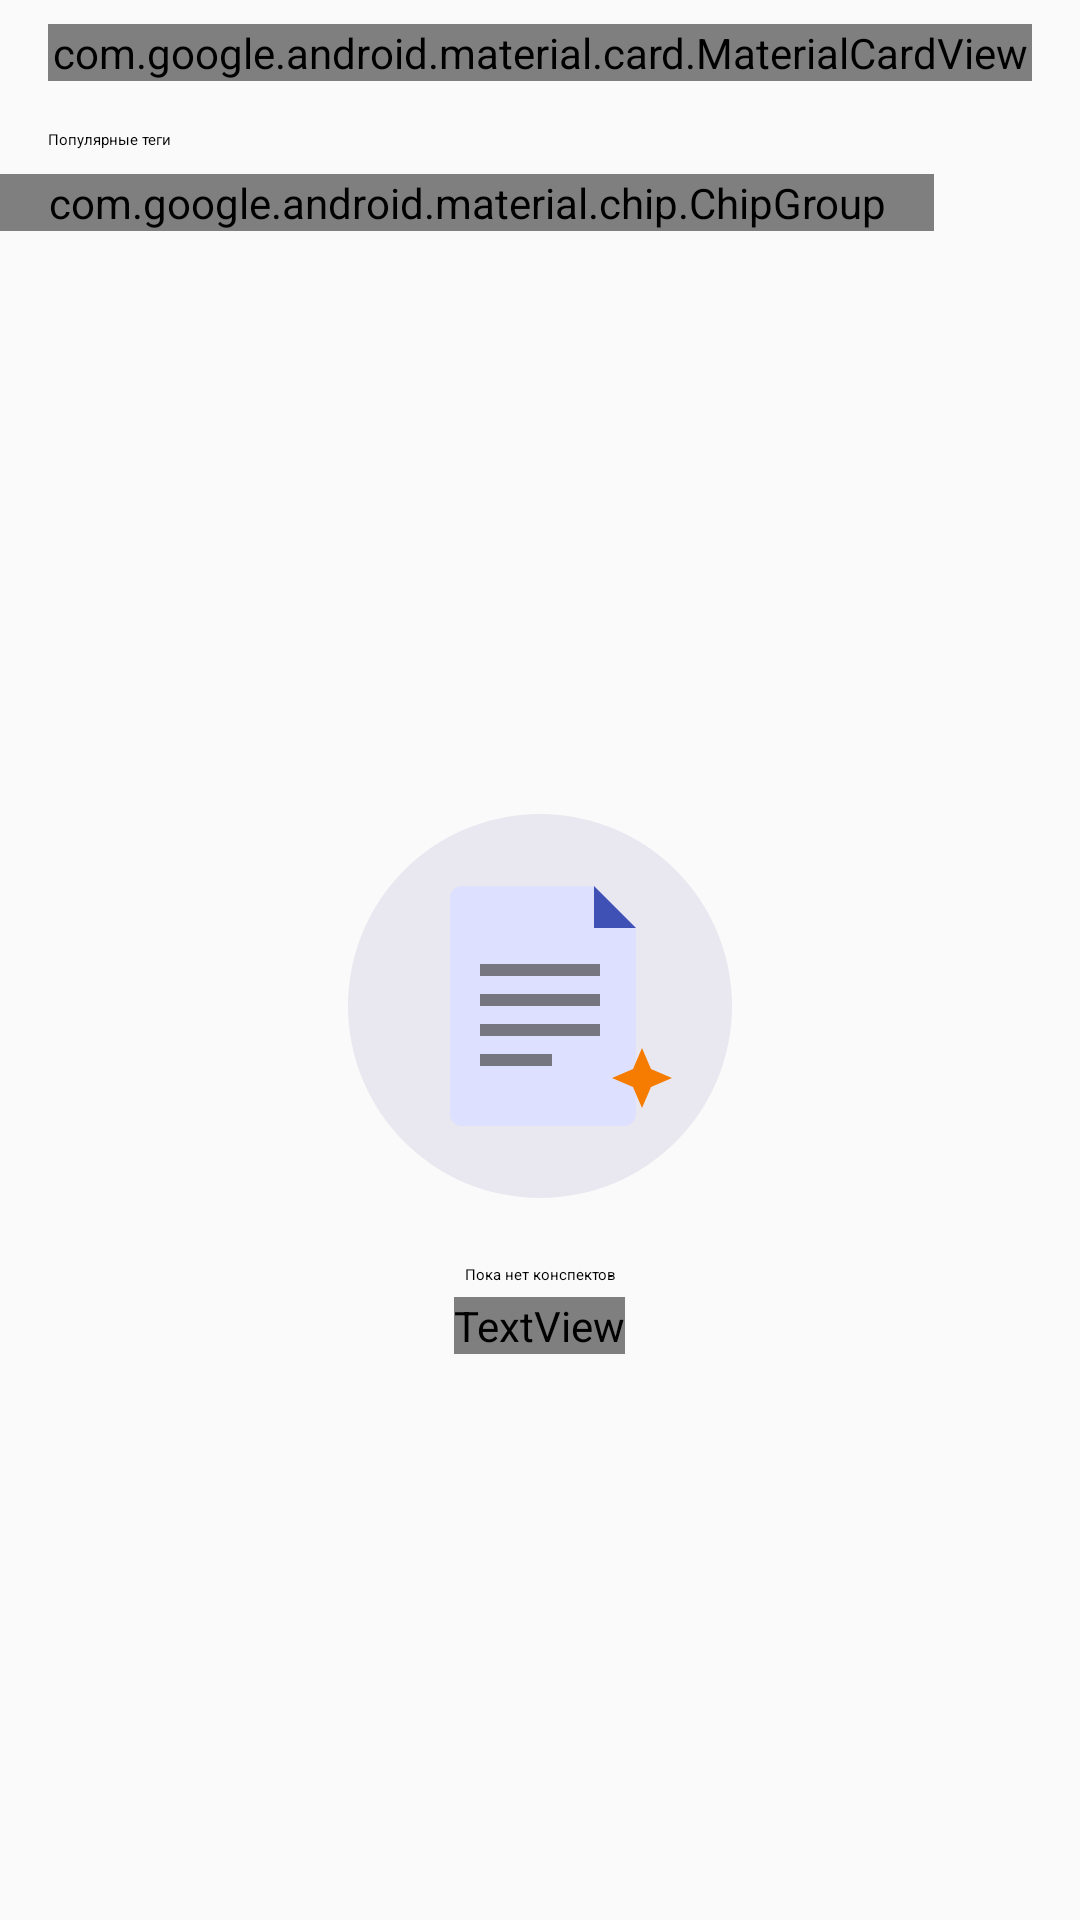

Icons on this 1080px×1920px Android screen, each with the point to tap as point (x, y):
Пустой список: point (561, 1006)
